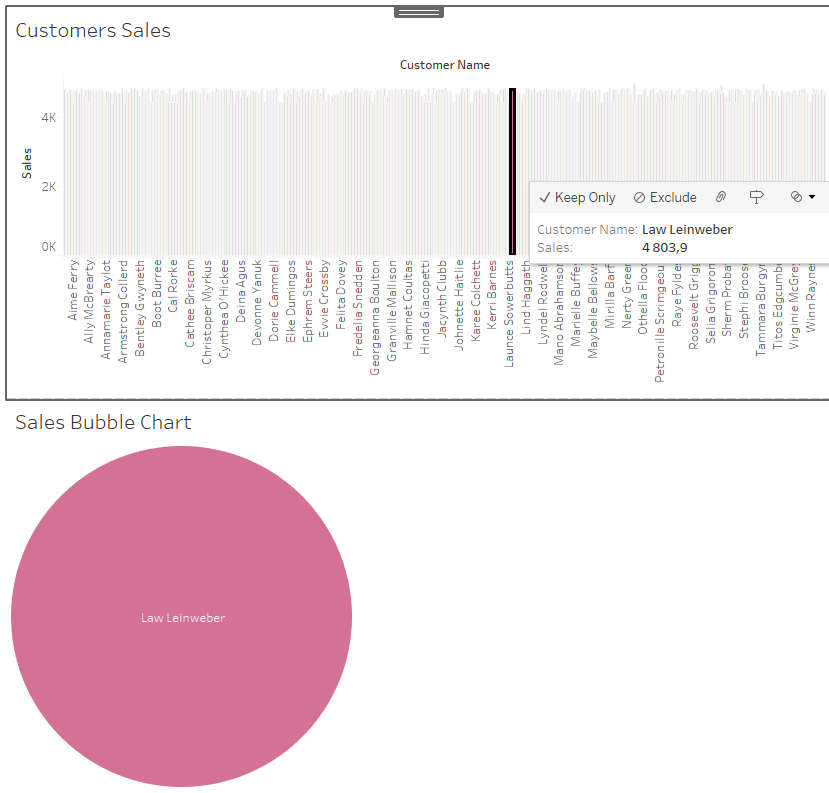

The dashboard page shown, as its layout file describes it:
{"tool":"tableau","page":{"name":"SalesDashboard","canvas":[1000,800],"ordinal":0},"visuals":[{"type":"worksheet","title":"Customers sales","mark":"Bar","rows":["Sales"],"cols":["Customer Name"],"box":[8,8,824,392]},{"type":"legend","title":"Customers sales","param":"[federated.0bse2cc1ym3n2s0zyltcx1n7mdxx].[none:Customer Name:nk]","box":[832,8,160,784]},{"type":"worksheet","title":"Sales Bubble Chart","mark":"Circle","box":[8,400,824,392]}]}

Visuals, with their boxes on the page's 1000x800 design canvas (x1, y1, x2, y2). These are canvas units, not pixel positions in the 829x793 screenshot, which may show the page scaled, cropped or inside an application window:
"Customers sales" worksheet (Bar marks): x1=8 y1=8 x2=832 y2=400
"Customers sales" legend: x1=832 y1=8 x2=992 y2=792
"Sales Bubble Chart" worksheet (Circle marks): x1=8 y1=400 x2=832 y2=792
